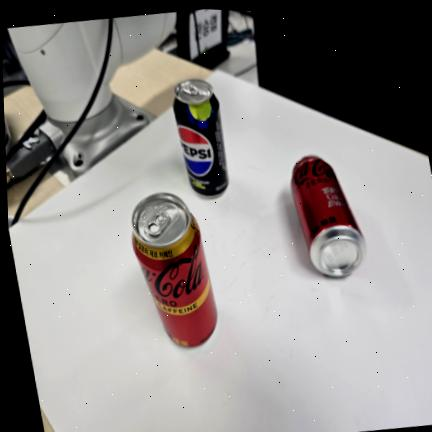can_coke_decaf: (129, 192, 218, 350)
can_coke_zero: (289, 154, 365, 281)
can_pepsi_zero: (171, 75, 231, 199)
